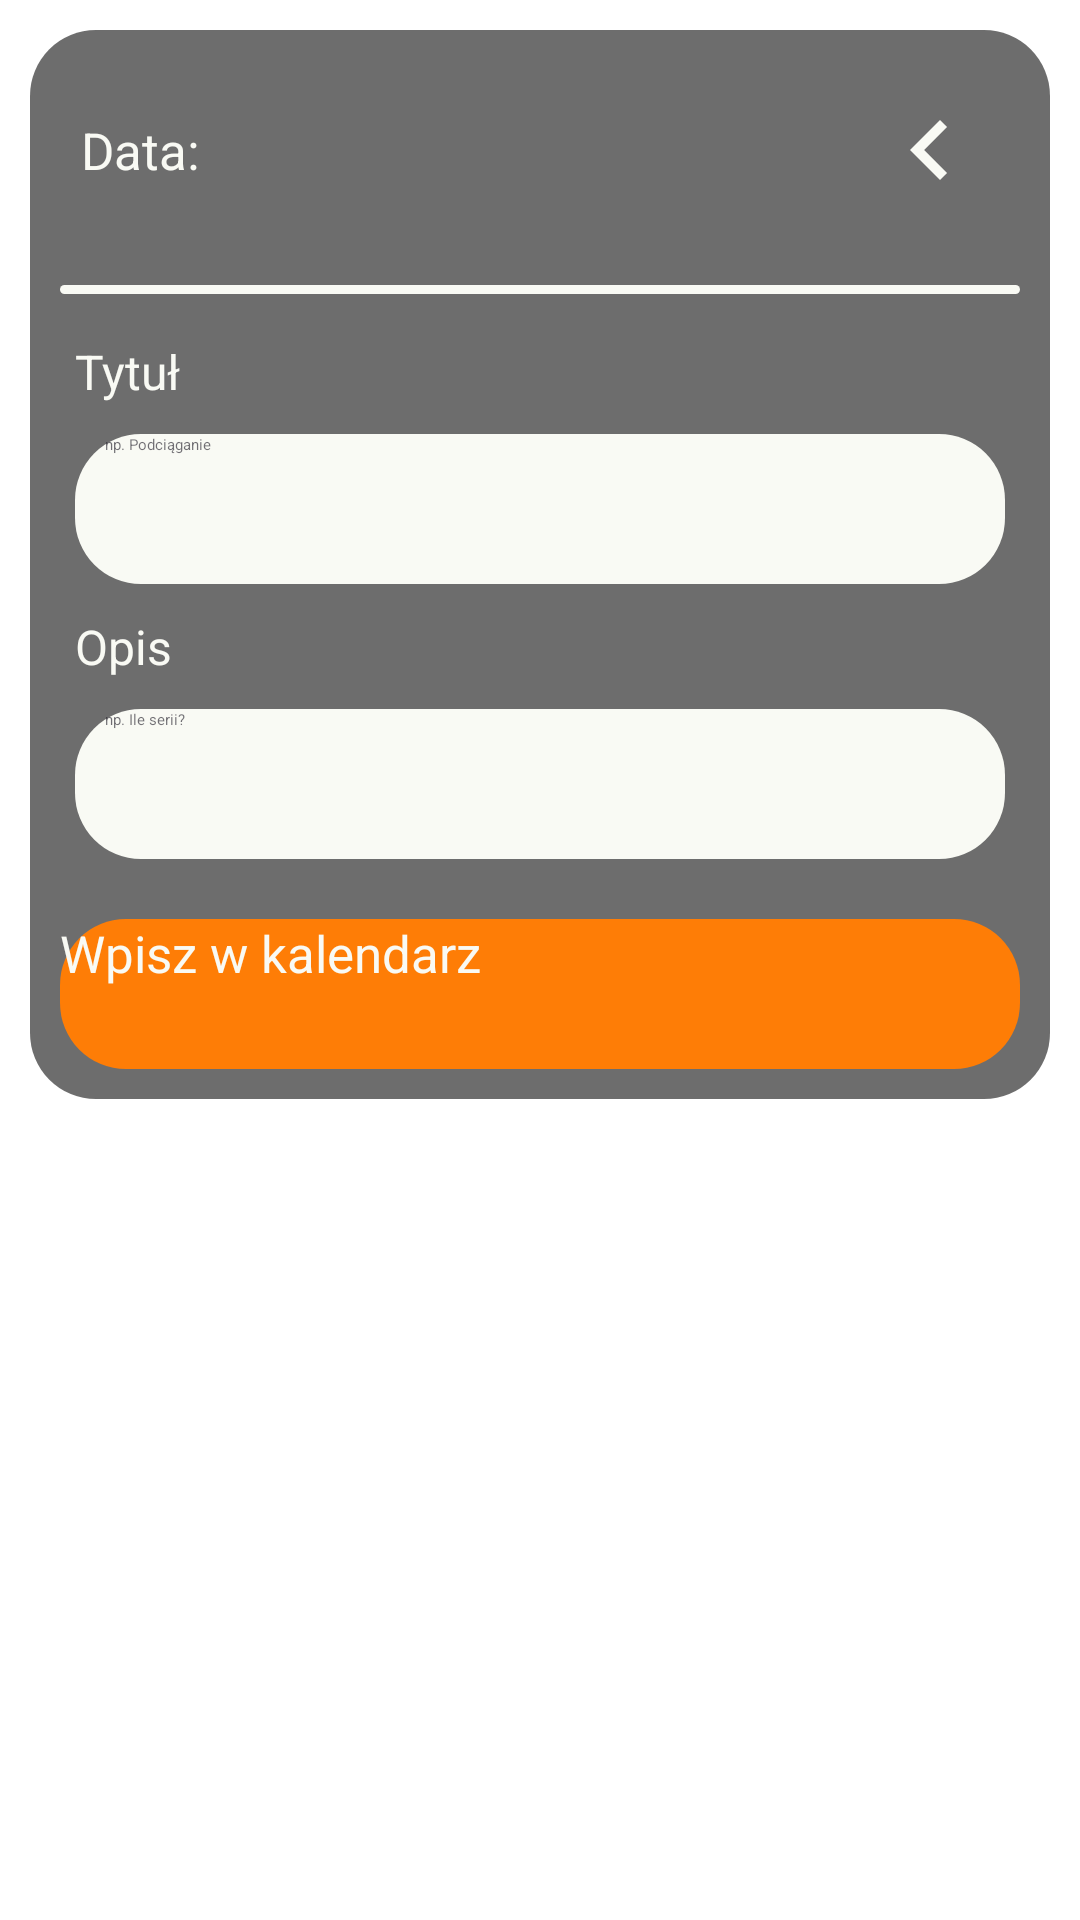

Named icons in this screenshot (1080 × 1920) and their bounding boxes, (x1, y1, x2, y2):
keyboard arrow left: (910, 120, 947, 180)
